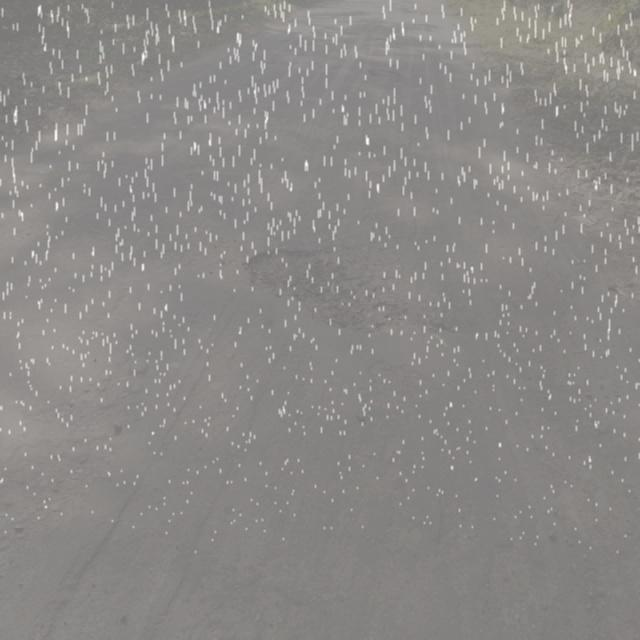Pothole: (241, 238, 431, 356), (116, 119, 185, 167)
